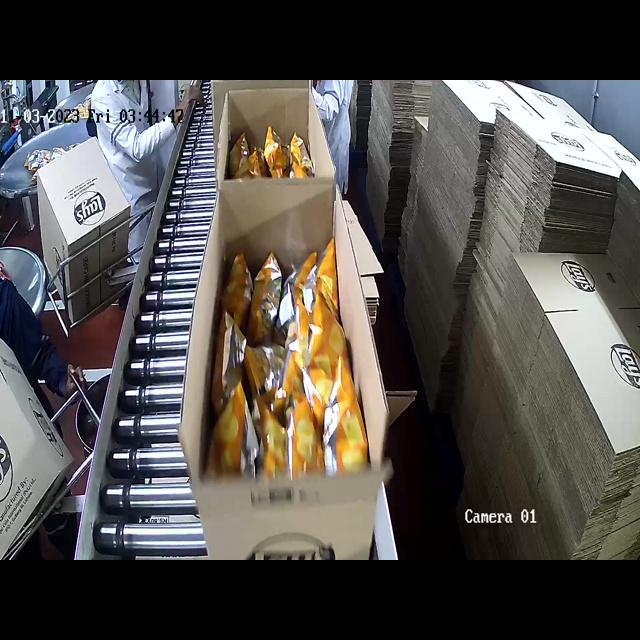cheese: (219, 247, 366, 456), (224, 112, 315, 182)
